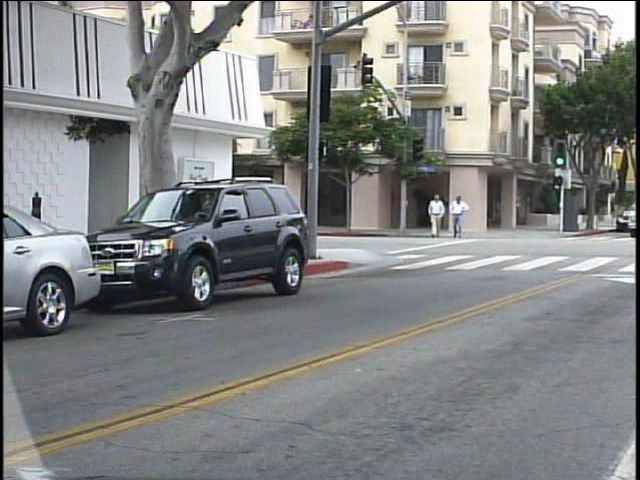person: (424, 190, 448, 243), (447, 191, 471, 243)
